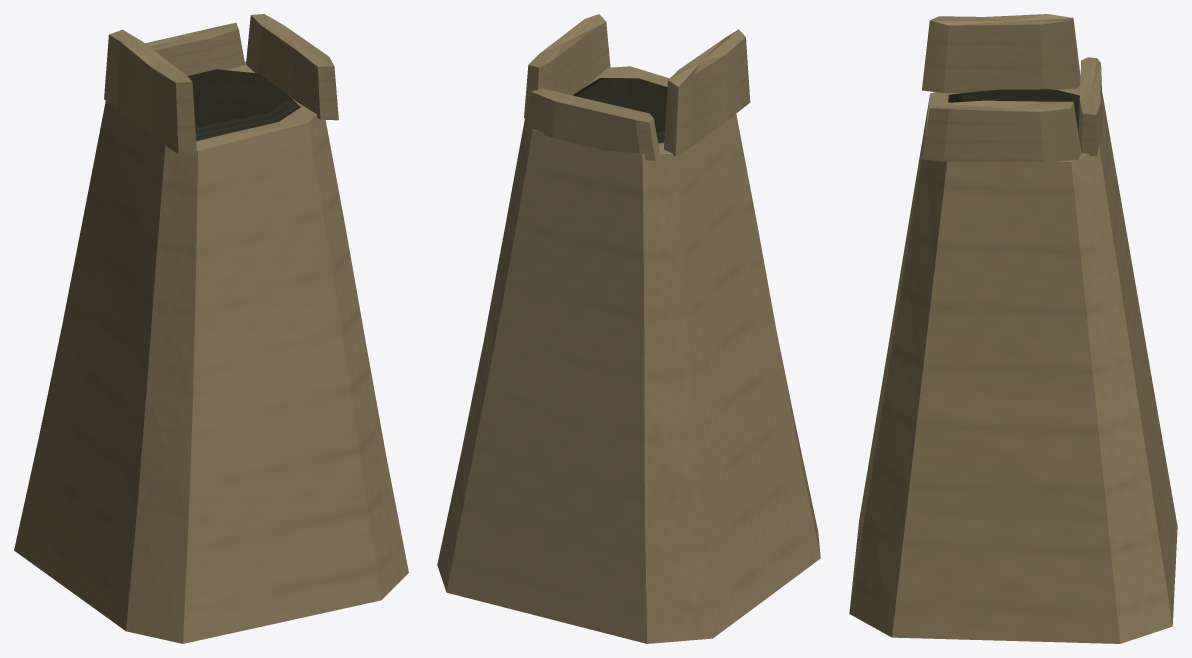
Rendered from beacon-han-lod1.glb.
3 views of the same model, side by side, from view 1: azimuth 30°, elevation 25°; view 2: azimuth 150°, elevation 25°; view 3: azimuth 270°, elevation 25° (orthographic).
Bounding box in the file's own units: 0.2222 × 0.3892 × 0.222.
1 material, 1 textured.
